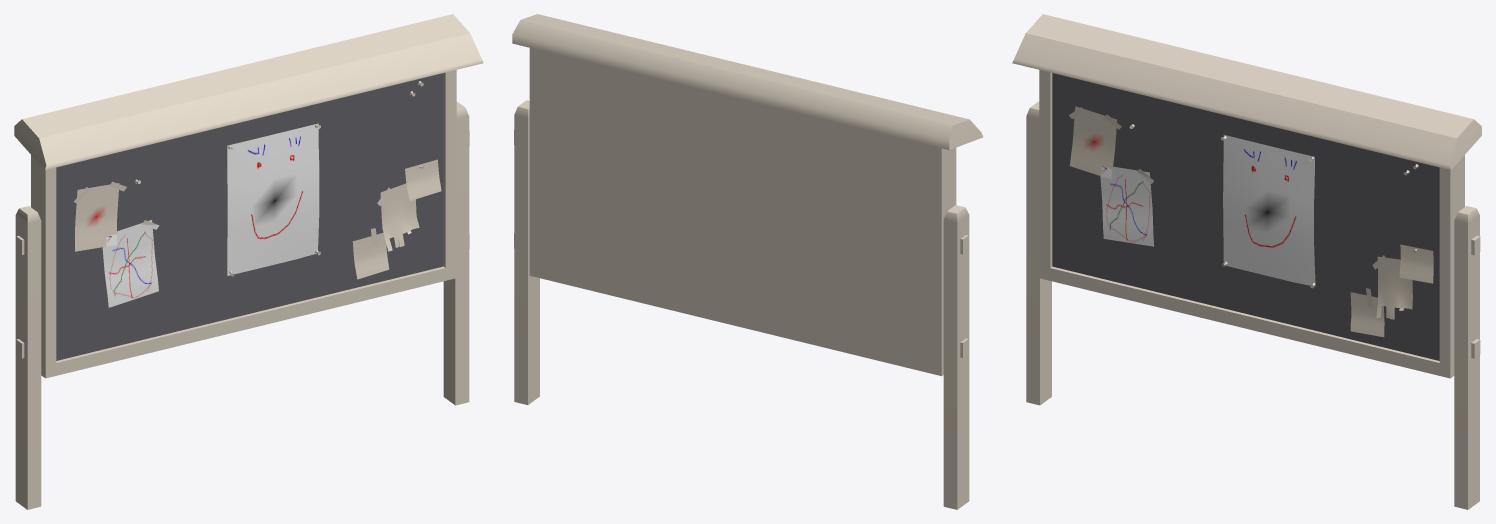
Rendered from bulletin.glb.
3 views of the same model, side by side, from view 1: azimuth 30°, elevation 25°; view 2: azimuth 150°, elevation 25°; view 3: azimuth 330°, elevation 25° (orthographic).
Visible parts, largest first — view 1: Object_3; view 2: Object_3; view 3: Object_3.
Part boxes in pixels (<box>): Object_3: <box>14,14,483,509</box>; Object_3: <box>512,14,982,509</box>; Object_3: <box>1012,14,1481,509</box>.
Bounding box in the file's own units: 3.57 × 2.9 × 0.4464.
Materials: 4 (2 with a texture image).
